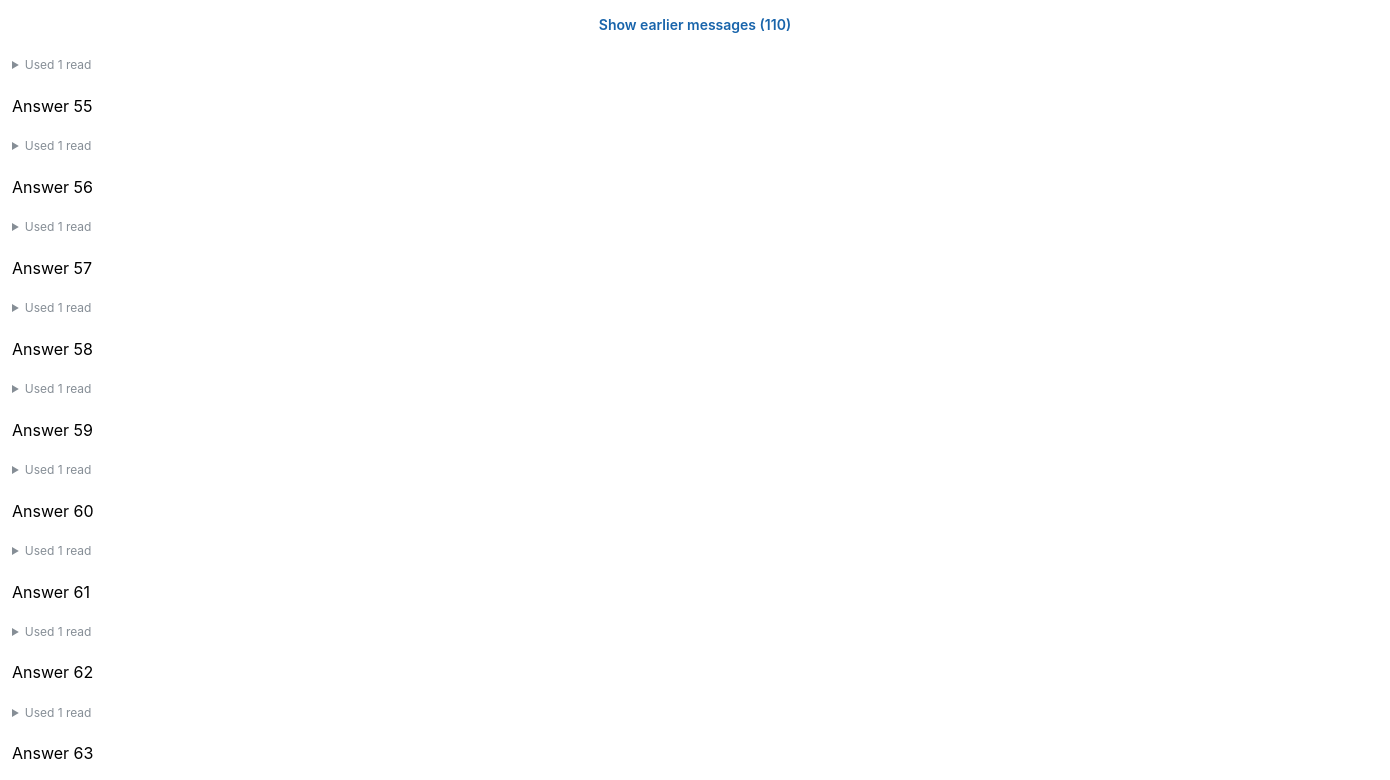
Test case: MessageList › shows 40 grouped rows and reveals 100 more per click
This screenshot has width=1390, height=780.
What coordinates should you click on to do the following:
click the button "Show earlier messages (110)"
I would click on:
 (695, 25)
Its box is x1=12 y1=12 x2=1378 y2=38.
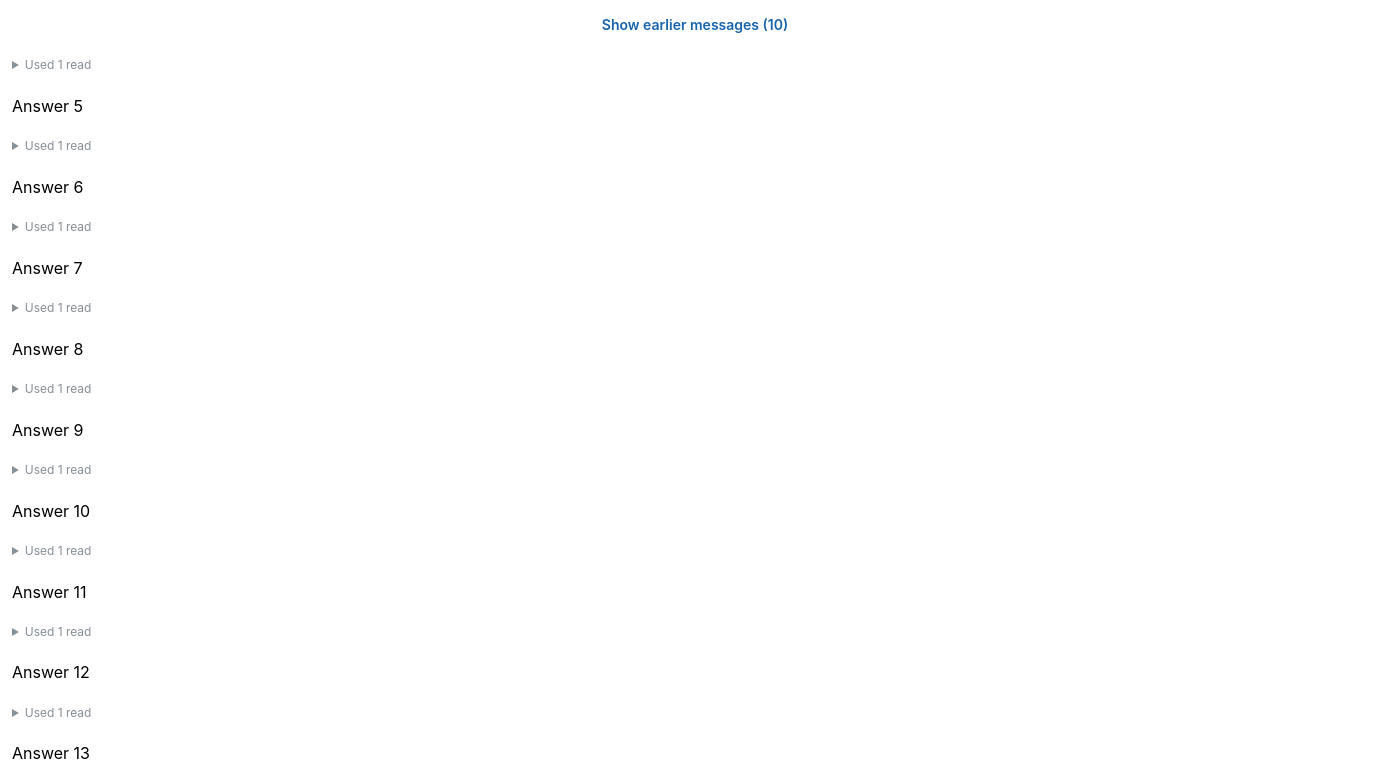
What coordinates should you click on to do the following:
click the button "Show earlier messages (10)"
I would click on:
 (695, 25)
Its box is x1=12 y1=12 x2=1378 y2=38.
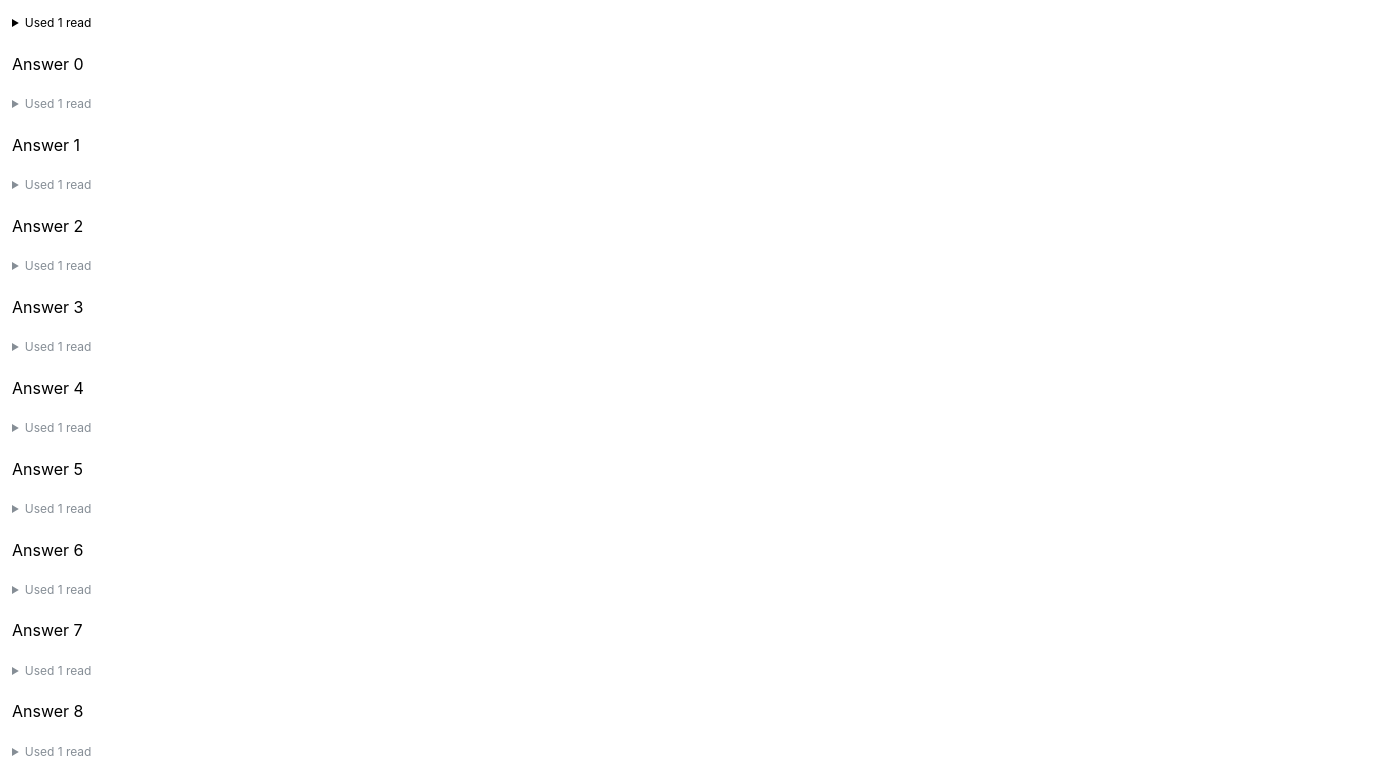
Now the button "Show earlier messages" is gone
